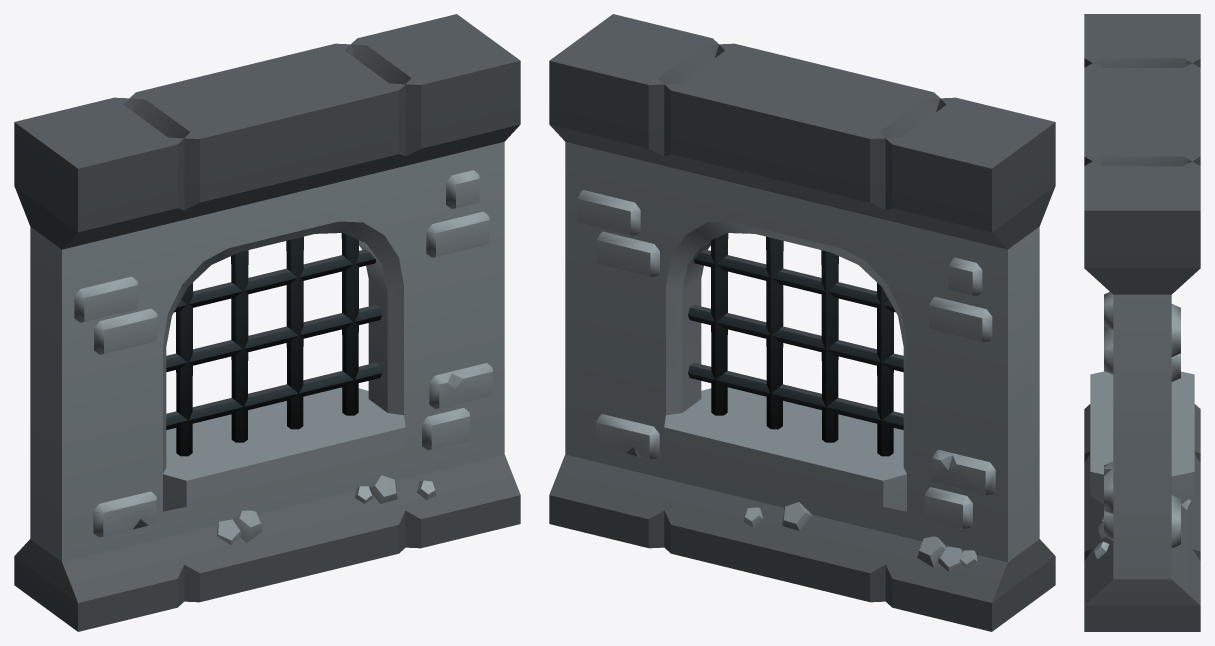
Rendered from wall_archedwindow_gated.obj.
3 renders of one model, left to right at view 1: azimuth 30°, elevation 25°; view 2: azimuth 150°, elevation 25°; view 3: azimuth 270°, elevation 25°, orthographic. The views are drawn at different scales.
Visible parts, largest first — view 1: wall_archedwindow_gated; view 2: wall_archedwindow_gated; view 3: wall_archedwindow_gated.
Boxes of the visible parts, x1,y1,x2,y2 form: wall_archedwindow_gated: [14, 14, 520, 631]; wall_archedwindow_gated: [549, 14, 1055, 631]; wall_archedwindow_gated: [1084, 14, 1200, 631].
Size of the model in its own units: 4 by 4 by 1.
1 material, 1 textured.
